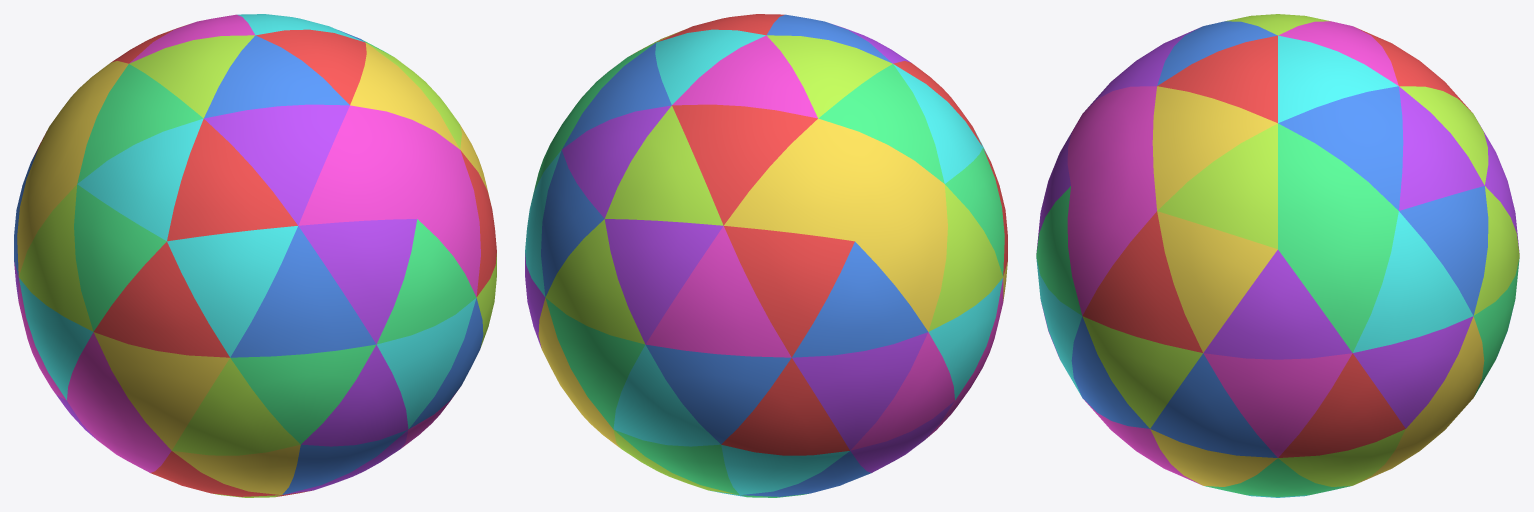
The picture shows the model from 3 angles, left to right: view 1: azimuth 30°, elevation 25°; view 2: azimuth 150°, elevation 25°; view 3: azimuth 270°, elevation 25°; orthographic projection.
Visible parts, largest first — view 1: SoccerBall_Rainbow; view 2: SoccerBall_Rainbow; view 3: SoccerBall_Rainbow.
Boxes of the visible parts, bbox=[...] form: SoccerBall_Rainbow: bbox=[14, 14, 496, 497]; SoccerBall_Rainbow: bbox=[525, 14, 1007, 497]; SoccerBall_Rainbow: bbox=[1036, 14, 1519, 497].
Size of the model in its own units: 1.85 by 1.86 by 1.85.
